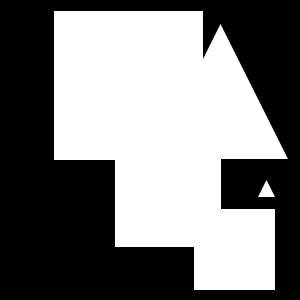circle: (54, 11, 203, 160), (115, 141, 221, 247), (194, 209, 275, 290)
triangle: (153, 24, 288, 159), (258, 180, 275, 197)
